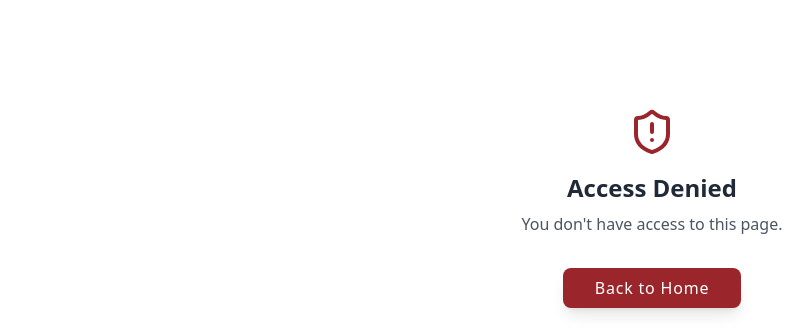
Test case: ProtectedRoute › lets the forbidden page return to Home
Click the button "Back to Home": [652, 288] box x1=563 y1=268 x2=741 y2=308
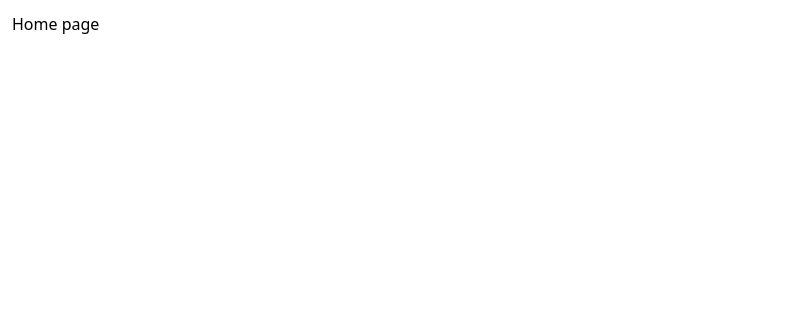
Now the text "Home page" is shown, box x1=12 y1=13 x2=99 y2=35
